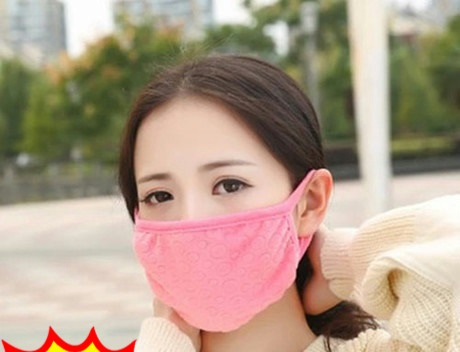face_mask: (127, 108, 296, 319)
